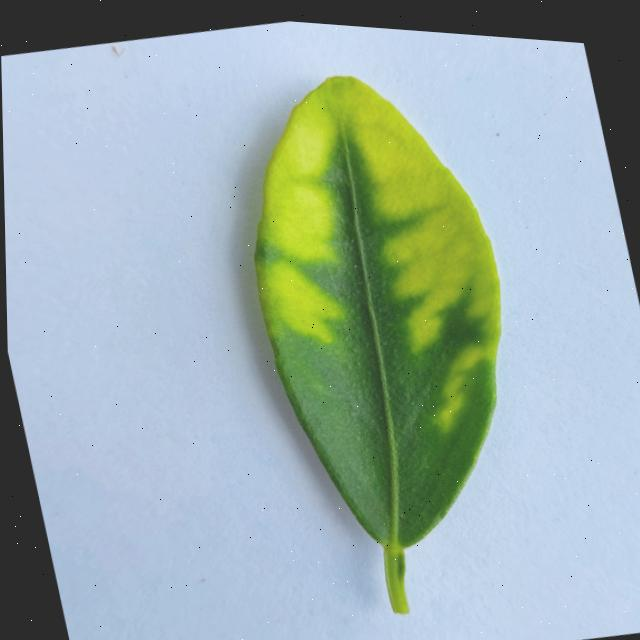greening: (255, 77, 501, 613)
